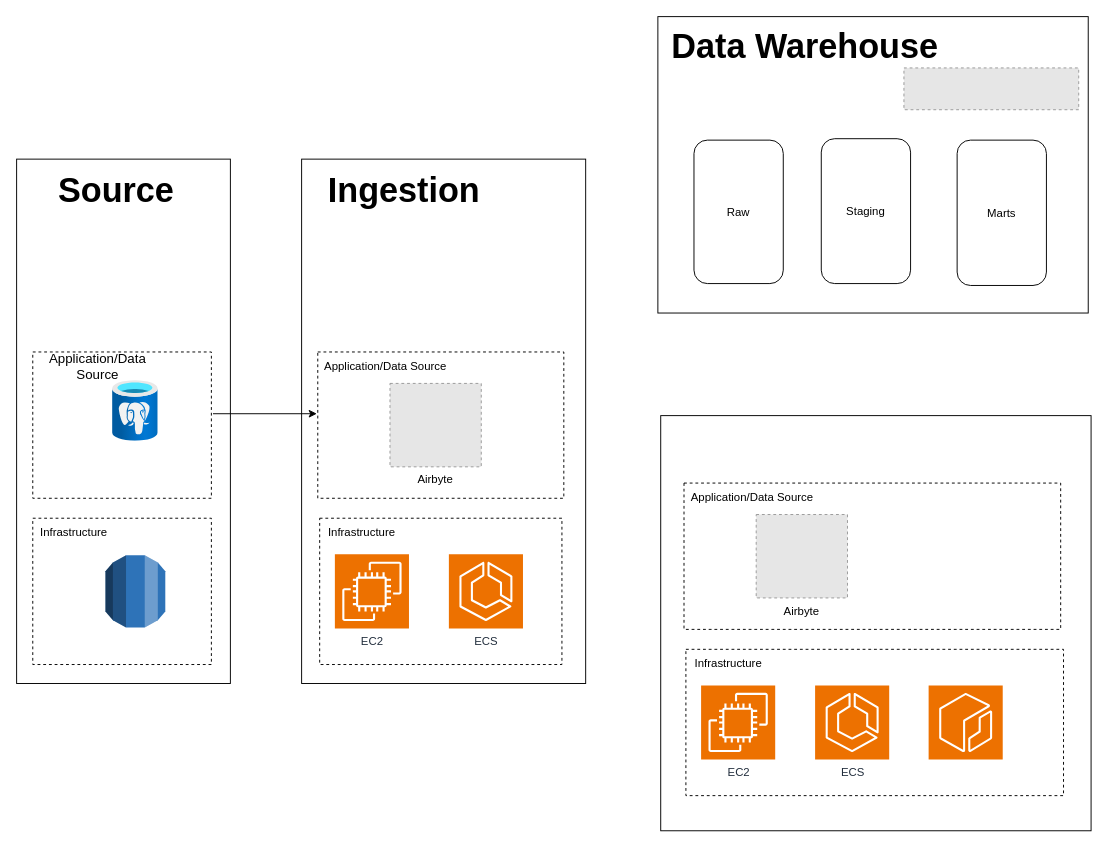
Image size: 1108x847. Some labels were removed from this diagram. Grey dashed boxes stand in for pictures. The centre of each missing label's shape, as x and y in pixels:
ECR: (965,722)
Postgres Database: DVD_Rental: (135,410)
RDS: (134,590)
